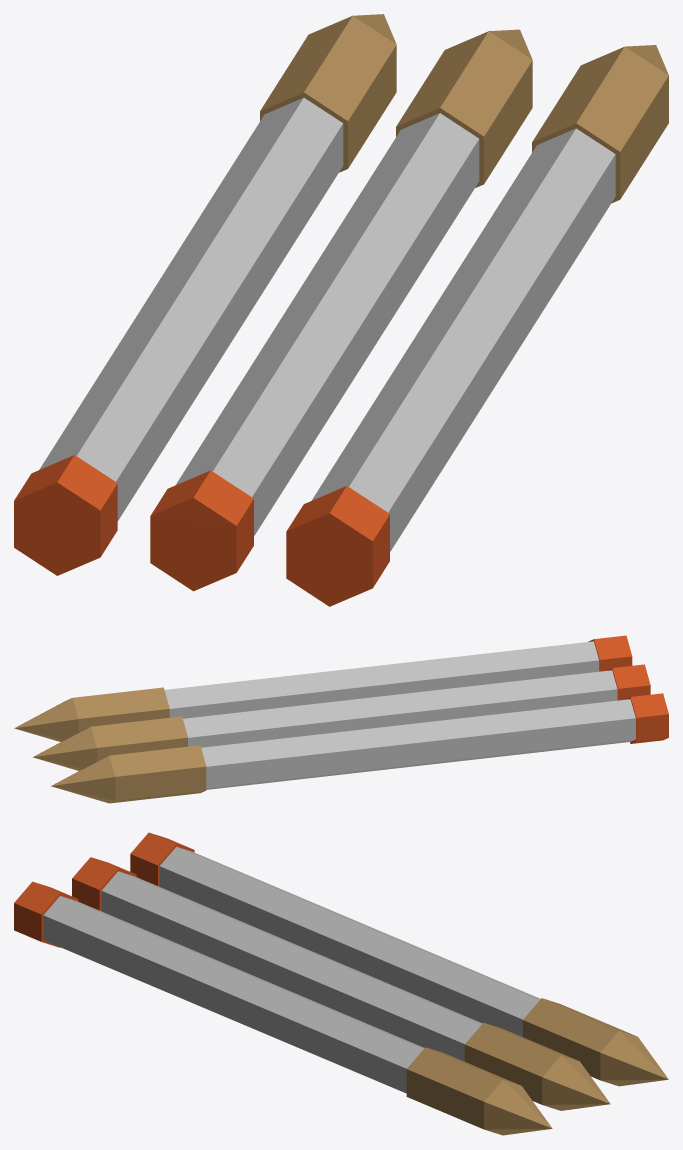
Rendered from ce_ammo2_s5_he_b.obj.
The picture shows the model from 3 angles, top to bottom: view 1: azimuth 30°, elevation 25°; view 2: azimuth 150°, elevation 25°; view 3: azimuth 270°, elevation 25°; orthographic projection. The views are drawn at different scales.
Parts seen in each view (by area): view 1: ce_ammo2_s5_he_b_1, ce_ammo2_s5_he_b_9, ce_ammo2_s5_he_b_5, ce_ammo2_s5_he_b_2, ce_ammo2_s5_he_b_10, ce_ammo2_s5_he_b_6, ce_ammo2_s5_he_b_8, ce_ammo2_s5_he_b_0, ce_ammo2_s5_he_b_4; view 2: ce_ammo2_s5_he_b_1, ce_ammo2_s5_he_b_9, ce_ammo2_s5_he_b_5, ce_ammo2_s5_he_b_2, ce_ammo2_s5_he_b_10, ce_ammo2_s5_he_b_6, ce_ammo2_s5_he_b_3, ce_ammo2_s5_he_b_0, ce_ammo2_s5_he_b_11, ce_ammo2_s5_he_b_7, ce_ammo2_s5_he_b_4, ce_ammo2_s5_he_b_8; view 3: ce_ammo2_s5_he_b_9, ce_ammo2_s5_he_b_1, ce_ammo2_s5_he_b_5, ce_ammo2_s5_he_b_10, ce_ammo2_s5_he_b_6, ce_ammo2_s5_he_b_2, ce_ammo2_s5_he_b_3, ce_ammo2_s5_he_b_7, ce_ammo2_s5_he_b_11, ce_ammo2_s5_he_b_8, ce_ammo2_s5_he_b_0, ce_ammo2_s5_he_b_4.
Part boxes in pixels (x1=…): ce_ammo2_s5_he_b_1: x1=39, y1=97, x2=343, y2=520; ce_ammo2_s5_he_b_9: x1=311, y1=128, x2=615, y2=551; ce_ammo2_s5_he_b_5: x1=176, y1=113, x2=479, y2=535; ce_ammo2_s5_he_b_2: x1=260, y1=16, x2=396, y2=172; ce_ammo2_s5_he_b_10: x1=532, y1=46, x2=668, y2=203; ce_ammo2_s5_he_b_6: x1=396, y1=31, x2=532, y2=187; ce_ammo2_s5_he_b_8: x1=286, y1=486, x2=389, y2=606; ce_ammo2_s5_he_b_0: x1=14, y1=455, x2=117, y2=575; ce_ammo2_s5_he_b_4: x1=150, y1=470, x2=253, y2=591; ce_ammo2_s5_he_b_1: x1=201, y1=699, x2=635, y2=789; ce_ammo2_s5_he_b_9: x1=164, y1=641, x2=599, y2=718; ce_ammo2_s5_he_b_5: x1=183, y1=670, x2=617, y2=747; ce_ammo2_s5_he_b_2: x1=109, y1=745, x2=206, y2=803; ce_ammo2_s5_he_b_10: x1=73, y1=687, x2=169, y2=732; ce_ammo2_s5_he_b_6: x1=91, y1=716, x2=187, y2=761; ce_ammo2_s5_he_b_3: x1=51, y1=756, x2=115, y2=803; ce_ammo2_s5_he_b_0: x1=625, y1=693, x2=668, y2=743; ce_ammo2_s5_he_b_11: x1=14, y1=698, x2=78, y2=741; ce_ammo2_s5_he_b_7: x1=33, y1=727, x2=96, y2=770; ce_ammo2_s5_he_b_4: x1=606, y1=664, x2=650, y2=700; ce_ammo2_s5_he_b_8: x1=588, y1=635, x2=632, y2=671; ce_ammo2_s5_he_b_9: x1=43, y1=896, x2=424, y2=1093; ce_ammo2_s5_he_b_1: x1=159, y1=846, x2=540, y2=1036; ce_ammo2_s5_he_b_5: x1=101, y1=871, x2=482, y2=1061; ce_ammo2_s5_he_b_10: x1=406, y1=1047, x2=518, y2=1129; ce_ammo2_s5_he_b_6: x1=464, y1=1022, x2=577, y2=1104; ce_ammo2_s5_he_b_2: x1=523, y1=998, x2=636, y2=1079; ce_ammo2_s5_he_b_3: x1=600, y1=1031, x2=668, y2=1086; ce_ammo2_s5_he_b_7: x1=542, y1=1055, x2=610, y2=1110; ce_ammo2_s5_he_b_11: x1=484, y1=1080, x2=552, y2=1135; ce_ammo2_s5_he_b_8: x1=14, y1=881, x2=78, y2=947; ce_ammo2_s5_he_b_0: x1=130, y1=832, x2=194, y2=886; ce_ammo2_s5_he_b_4: x1=72, y1=857, x2=136, y2=911.
Bounding box in the file's own units: 0.8368 × 0.0784 × 0.8368.
